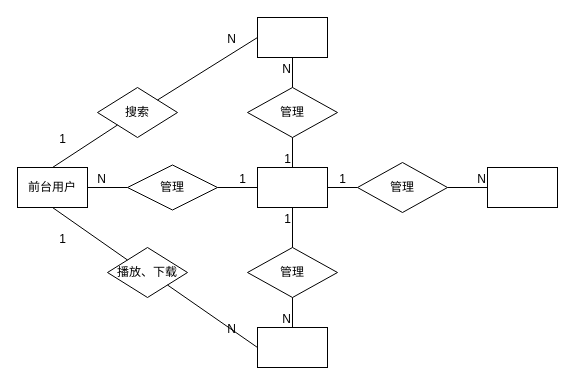
This 575x385 diagram has some shape labels left out. Each missing label, with the centre of its shape:
后台管理员: the point at 292,187
歌单: the point at 522,187
歌手: the point at 292,37
歌曲: the point at 292,347
